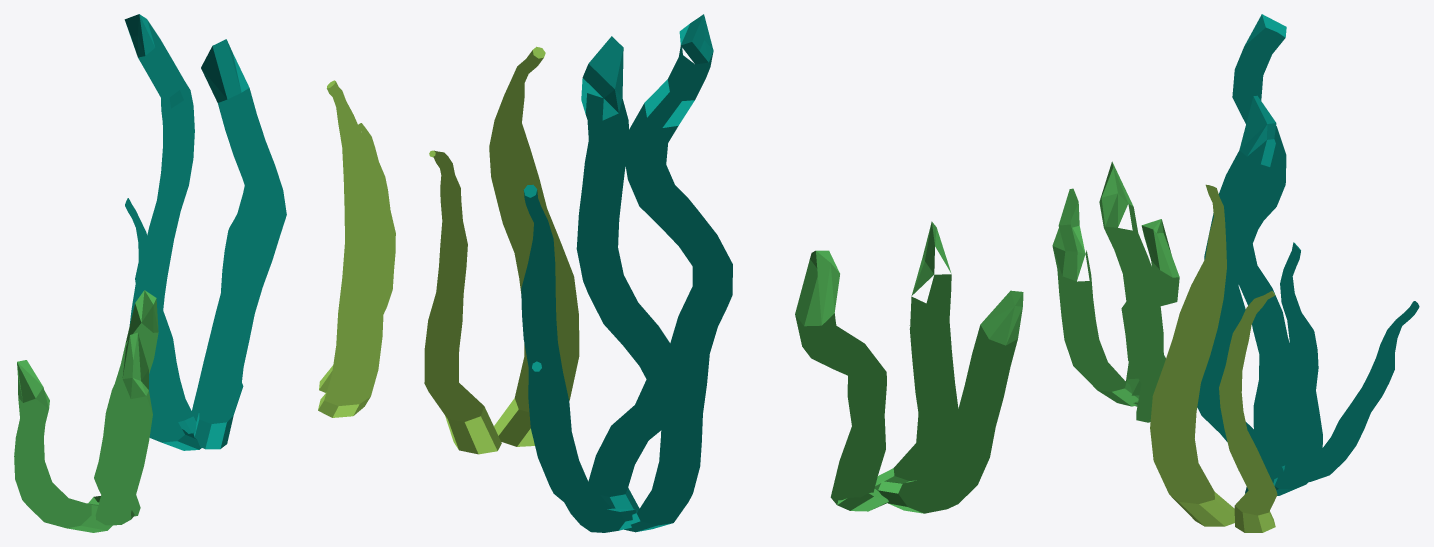
File: Seaweed 3.glb
3 renders of one model, left to right at view 1: azimuth 30°, elevation 25°; view 2: azimuth 150°, elevation 25°; view 3: azimuth 270°, elevation 25°, orthographic. The views are drawn at different scales.
Parts seen in each view (by area): view 1: Node; view 2: Node; view 3: Node.
Part boxes in pixels (left/top/right/bottom): Node: left=14, top=14, right=395, bottom=532; Node: left=424, top=14, right=1023, bottom=532; Node: left=1052, top=14, right=1419, bottom=532.
Bounding box in the file's own units: 0.8397 × 0.8166 × 0.6106.
